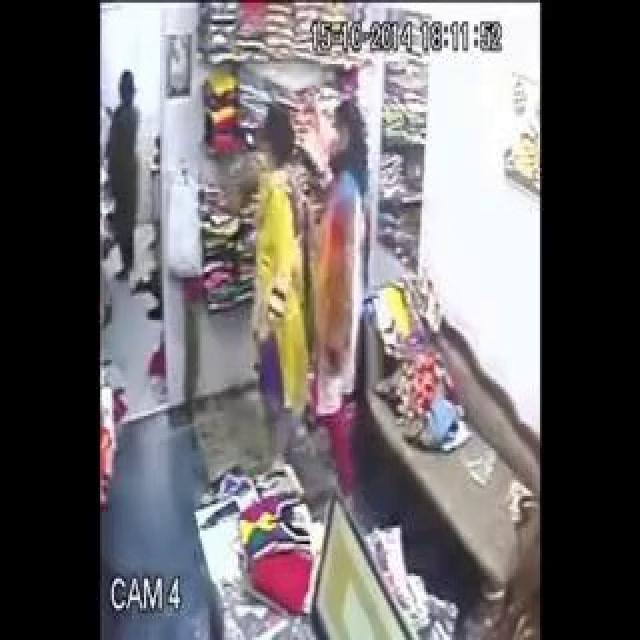Shoplifting: (307, 103, 403, 458)
